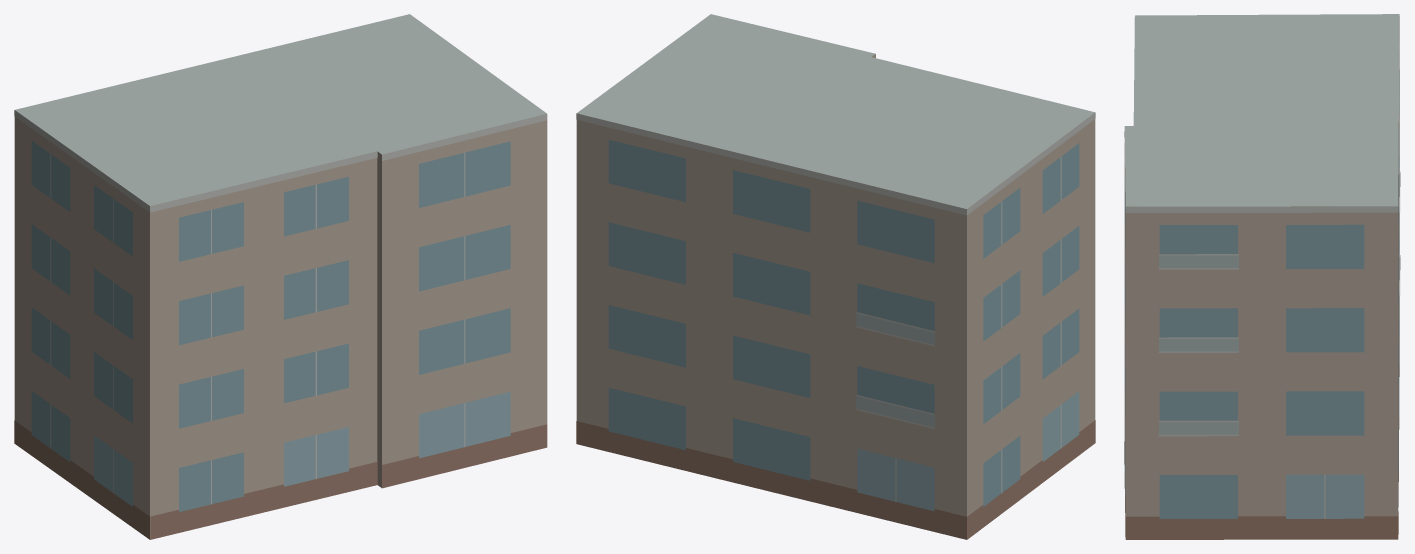
File: survey-upis-32613447.glb
3 renders of one model, left to right at view 1: azimuth 30°, elevation 25°; view 2: azimuth 150°, elevation 25°; view 3: azimuth 270°, elevation 25°, orthographic.
Visible parts, largest first — view 1: survey-upis-32613447.tmp; view 2: survey-upis-32613447.tmp; view 3: survey-upis-32613447.tmp.
Boxes of the visible parts, bbox=[...] form: survey-upis-32613447.tmp: bbox=[14, 14, 547, 539]; survey-upis-32613447.tmp: bbox=[576, 14, 1095, 539]; survey-upis-32613447.tmp: bbox=[1124, 14, 1400, 539].
Size of the model in its own units: 15.8 by 12.7 by 9.54.
